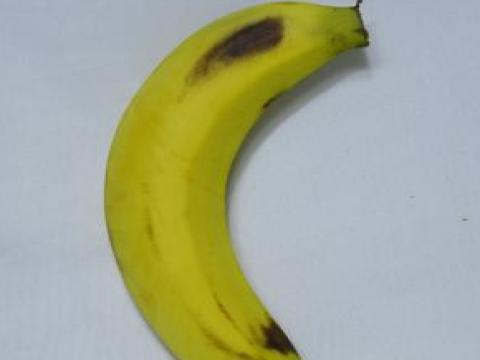freshripe: (85, 0, 393, 359)
